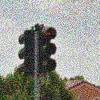traffic lights: (20, 29, 35, 72)
